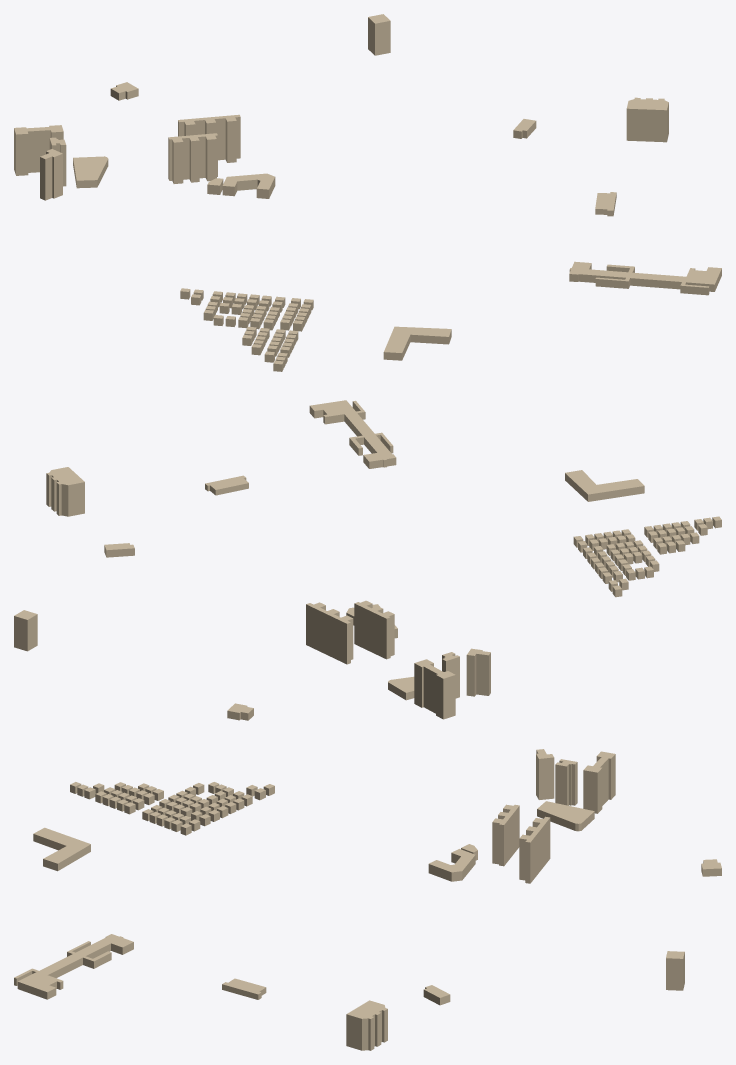
File: -17_4-estimated-coarse.glb
3 views of the same model, one above another, from view 1: azimuth 30°, elevation 25°; view 2: azimuth 150°, elevation 25°; view 3: azimuth 270°, elevation 25° (orthographic).
Bounding box in the file's own units: 899 × 66 × 1028.
